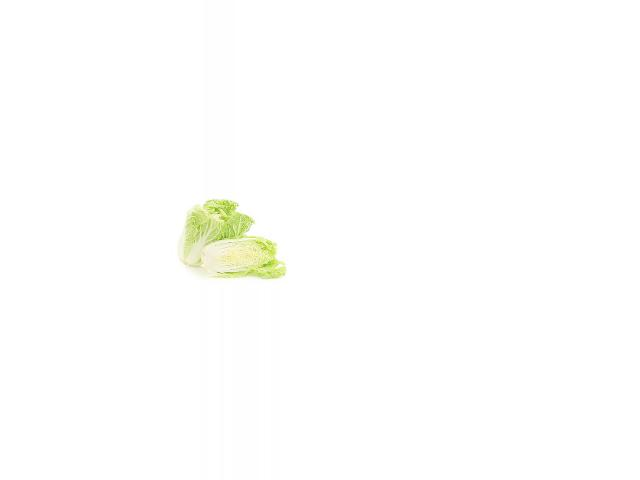lettuce: (175, 195, 259, 271)
